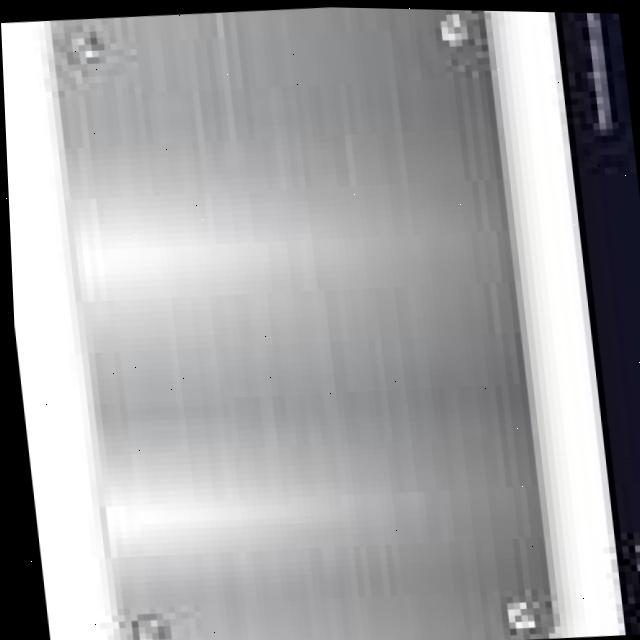Dry: (56, 5, 545, 638)
